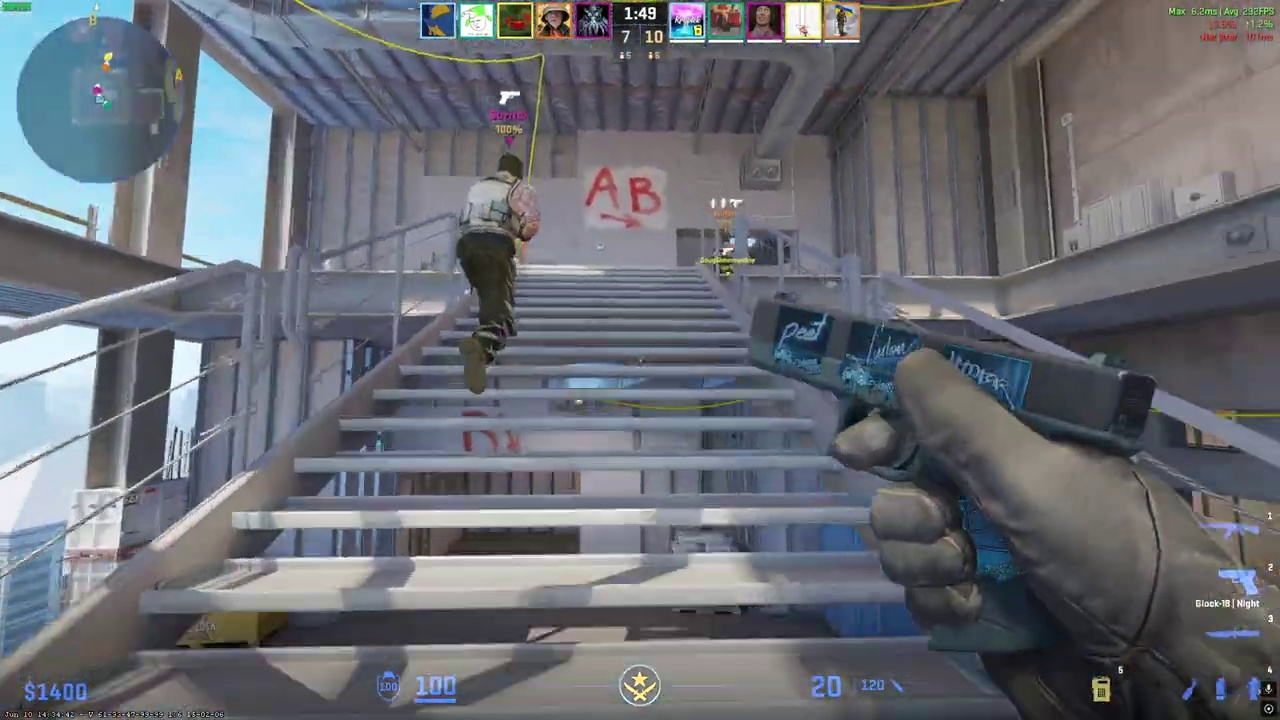Terrorist: (451, 150, 540, 385), (714, 229, 737, 278)
